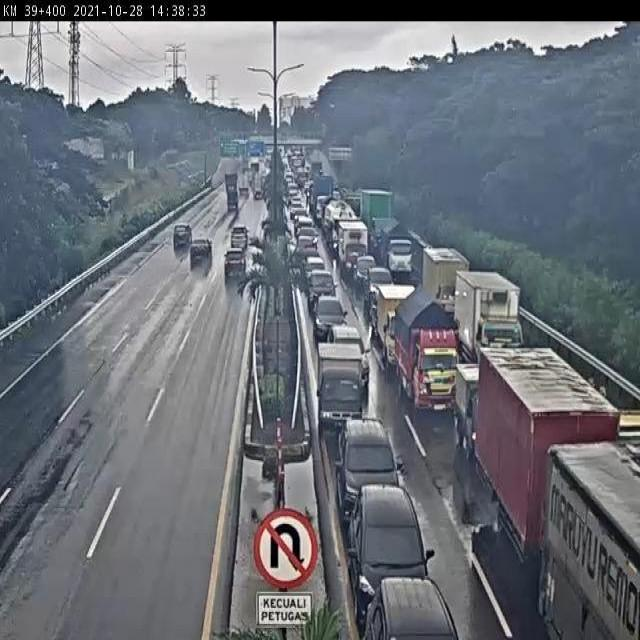big truck: (474, 351, 618, 553), (548, 450, 640, 640), (337, 221, 368, 267)
car: (368, 572, 462, 640), (340, 418, 405, 511), (353, 484, 410, 565), (313, 293, 349, 331), (370, 268, 395, 303), (326, 320, 364, 343), (309, 268, 337, 299), (182, 245, 208, 275), (356, 255, 377, 292), (220, 260, 243, 289), (163, 224, 186, 252), (226, 232, 247, 260)
small truck: (397, 294, 459, 418), (456, 265, 524, 355), (315, 341, 372, 412), (376, 286, 426, 362), (457, 360, 490, 457), (373, 212, 410, 269), (423, 248, 455, 313)
